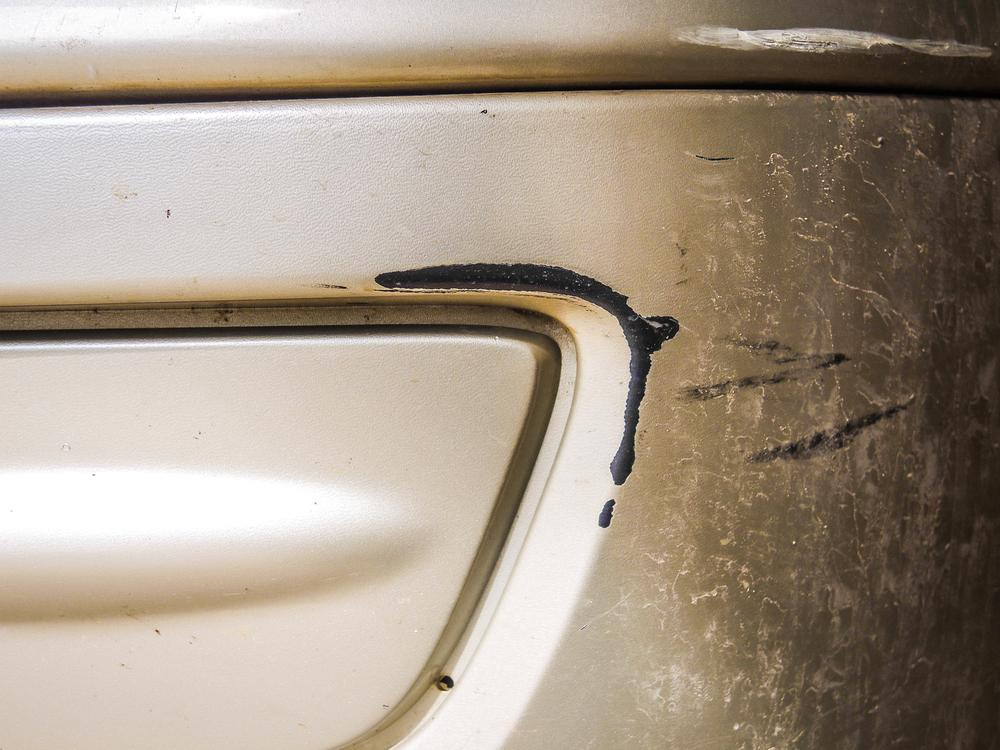scratch: (366, 252, 684, 544), (665, 24, 1000, 58)
